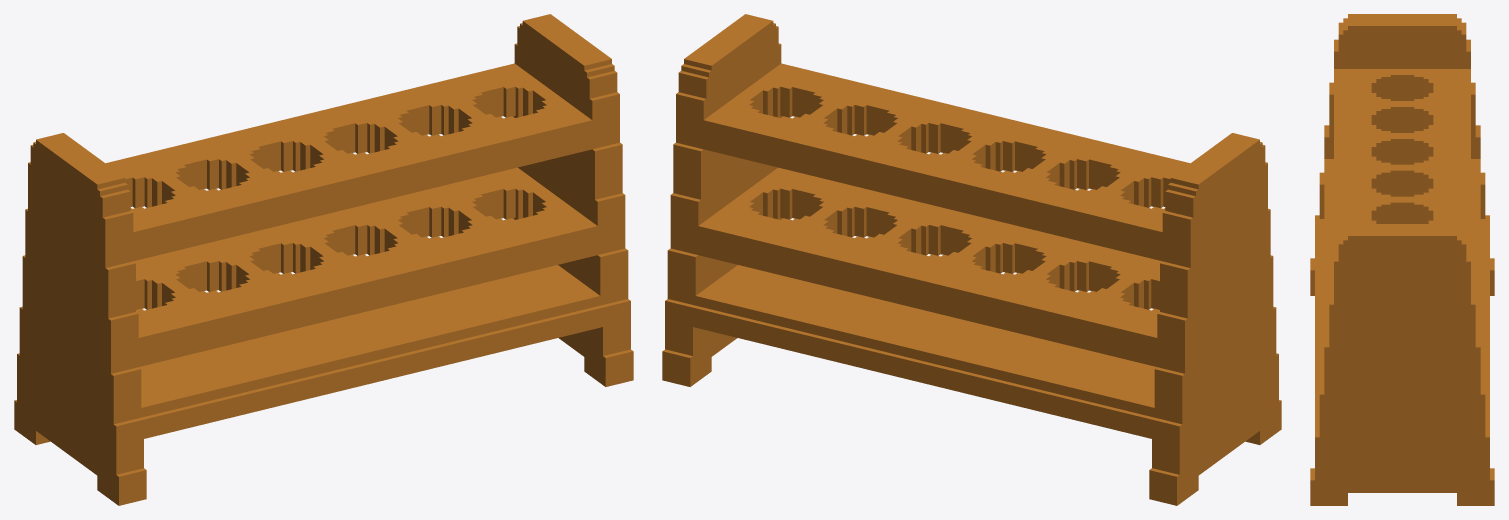
File: Test Tube Rack2.fbx
The picture shows the model from 3 angles, left to right: view 1: azimuth 30°, elevation 25°; view 2: azimuth 150°, elevation 25°; view 3: azimuth 270°, elevation 25°; orthographic projection. The views are drawn at different scales.
Parts seen in each view (by area): view 1: Test Tube Rack2; view 2: Test Tube Rack2; view 3: Test Tube Rack2.
Boxes of the visible parts, x1,y1,x2,y2 form: Test Tube Rack2: (14,14,633,505); Test Tube Rack2: (662,14,1281,505); Test Tube Rack2: (1310,14,1494,505).
Size of the model in its own units: 11.1 by 6.3 by 3.9.
